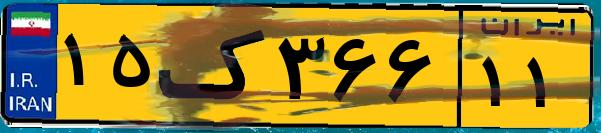1: (57, 26, 110, 100), (475, 38, 525, 113), (525, 38, 570, 115)
3: (270, 28, 330, 110)
5: (110, 28, 158, 98)
6: (385, 28, 445, 110), (330, 28, 385, 110)
ک: (158, 12, 270, 120)
